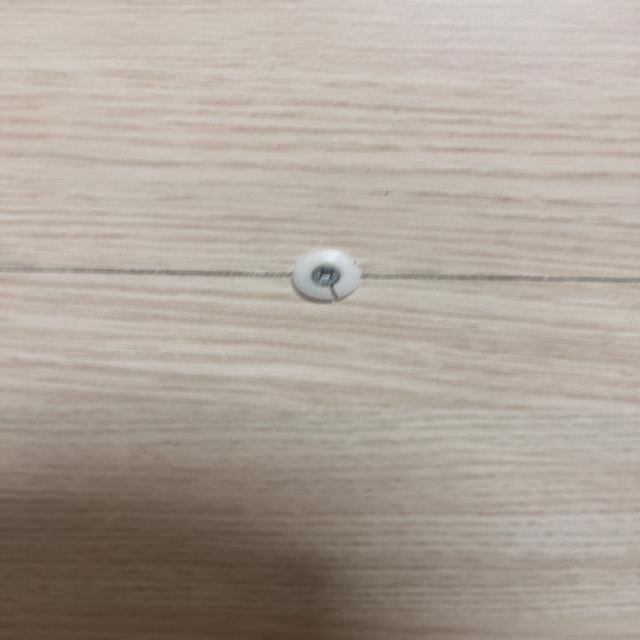pozidriv: (311, 264, 341, 286)
